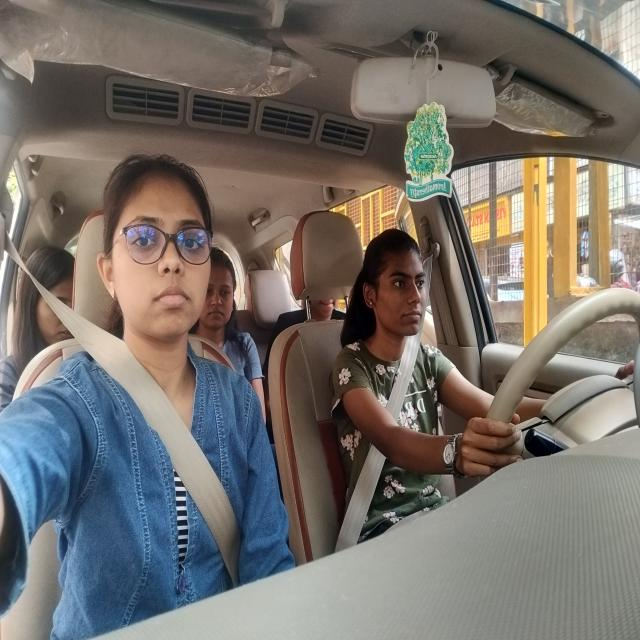person: (96, 152, 220, 352), (360, 222, 428, 345), (11, 240, 76, 353), (209, 245, 247, 337)
